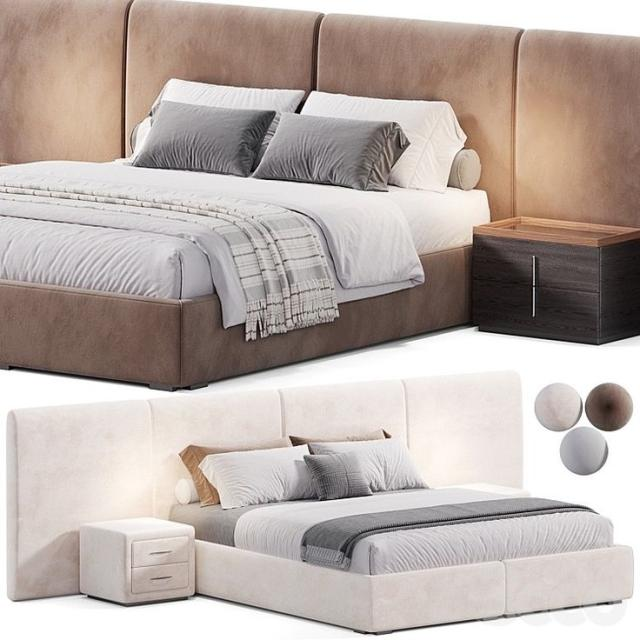obstacle: (5, 368, 634, 634), (0, 81, 475, 361), (477, 216, 640, 339), (80, 515, 197, 601)
